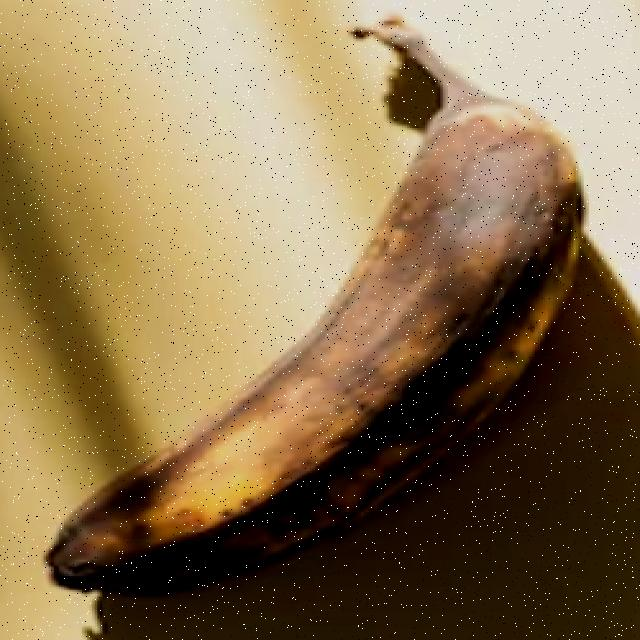Rotten: (36, 0, 602, 624)
